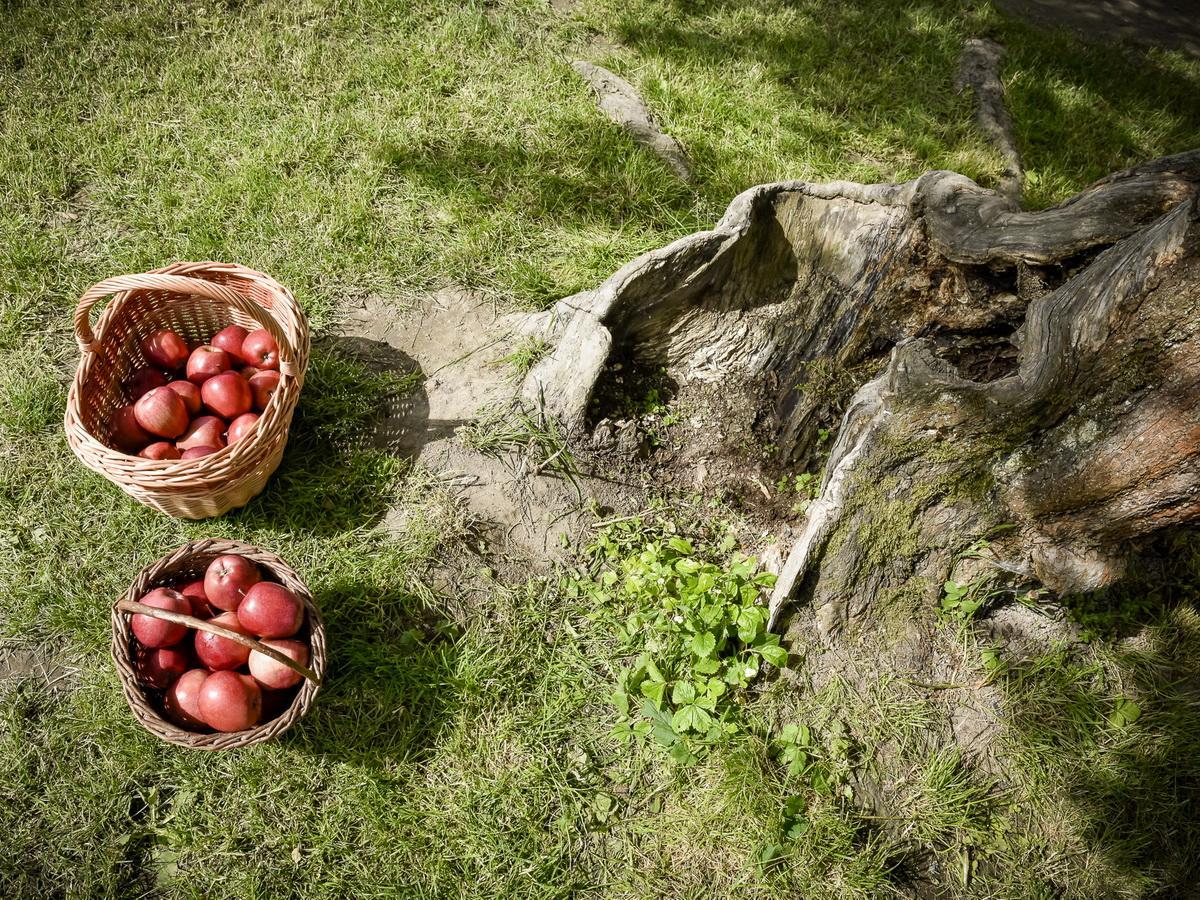apple: (198, 669, 263, 734), (237, 581, 304, 637), (130, 588, 191, 649), (203, 555, 260, 611), (195, 613, 250, 671), (248, 637, 308, 690), (162, 669, 213, 729), (134, 386, 189, 439), (201, 370, 254, 421), (139, 328, 188, 370), (241, 328, 283, 370), (175, 415, 228, 448), (186, 344, 231, 382), (108, 404, 150, 444), (210, 322, 247, 366), (147, 649, 186, 684), (249, 369, 282, 410)
